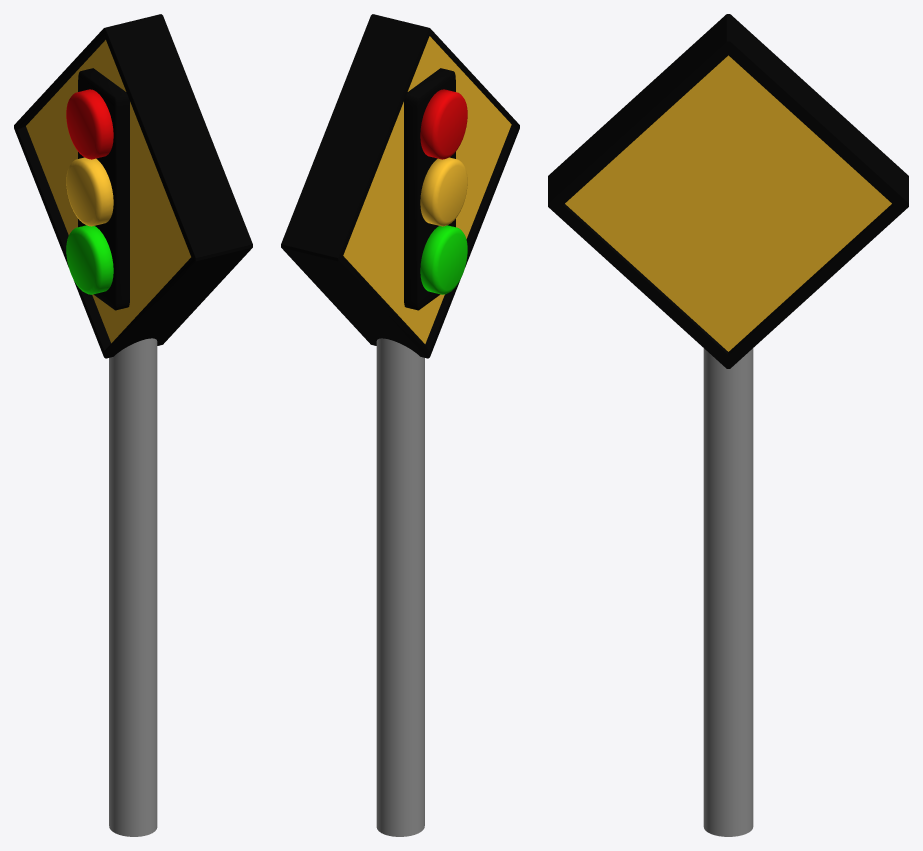
File: TrafficSign2.fbx
3 views of the same model, side by side, from view 1: azimuth 30°, elevation 25°; view 2: azimuth 150°, elevation 25°; view 3: azimuth 270°, elevation 25° (orthographic).
Visible parts, largest first — view 1: TrafficSignSquare, TrafficSignPole2, TrafficLightSymbol; view 2: TrafficSignSquare, TrafficSignPole2, TrafficLightSymbol; view 3: TrafficSignSquare, TrafficSignPole2.
Boxes of the visible parts, x1,y1,x2,y2 form: TrafficSignSquare: [14, 14, 252, 358]; TrafficSignPole2: [109, 338, 157, 836]; TrafficLightSymbol: [66, 68, 129, 310]; TrafficSignSquare: [281, 14, 519, 358]; TrafficSignPole2: [376, 338, 424, 836]; TrafficLightSymbol: [404, 68, 467, 310]; TrafficSignSquare: [548, 14, 908, 368]; TrafficSignPole2: [703, 348, 753, 836].
Size of the model in its own units: 0.1864 by 1.77 by 0.7259.
